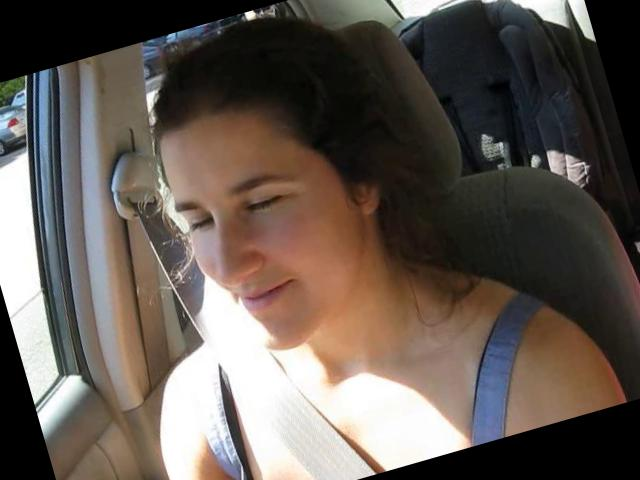eye_closed: (235, 184, 293, 222), (177, 208, 216, 239)
face: (160, 134, 366, 373)
